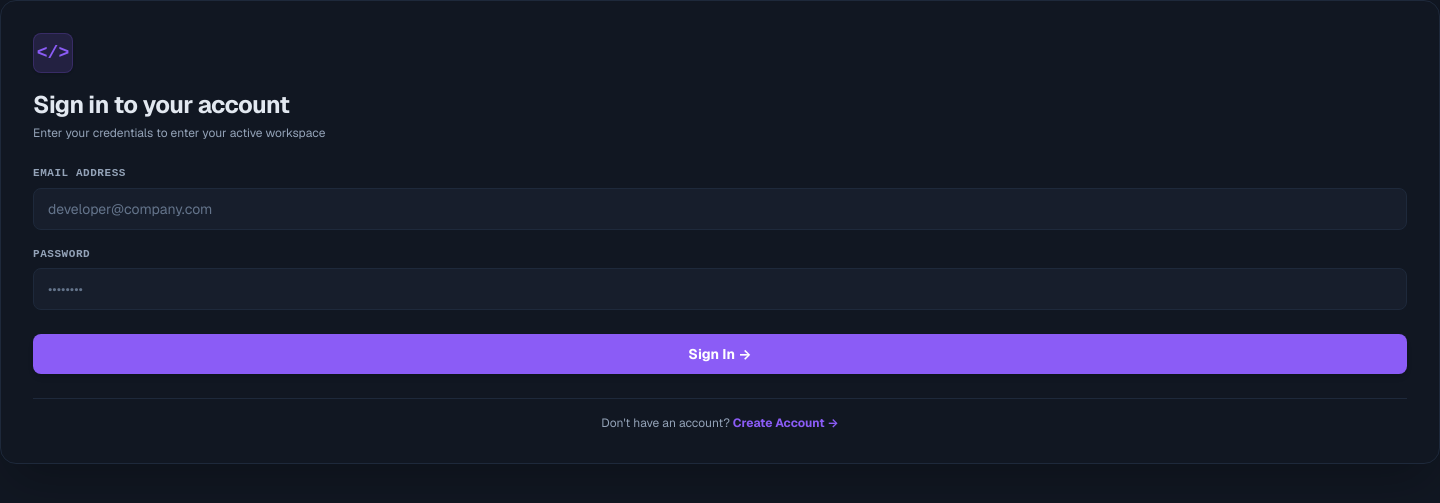
Test: Auth Store & Authentication Flow Tests › LoginForm Rendering & Validation › should display email format validation errors
In the field labelled "Email Address": (720, 208) [33,188,1407,230], type "invalid-email"
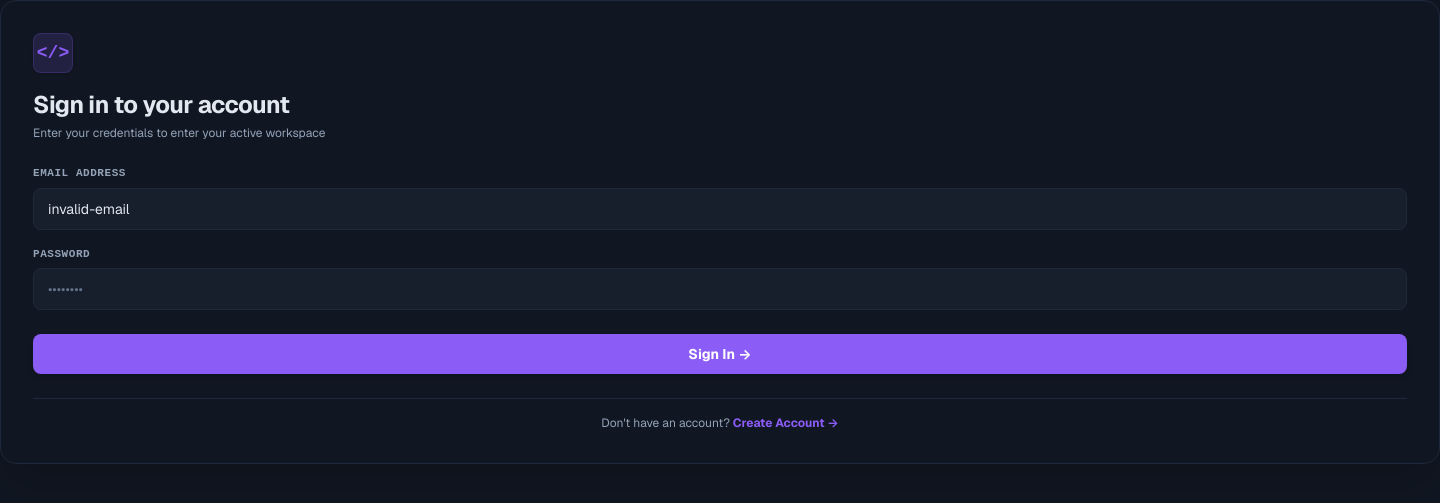
In the password field labelled "Password": (720, 289) [33,268,1407,310], type "password123"
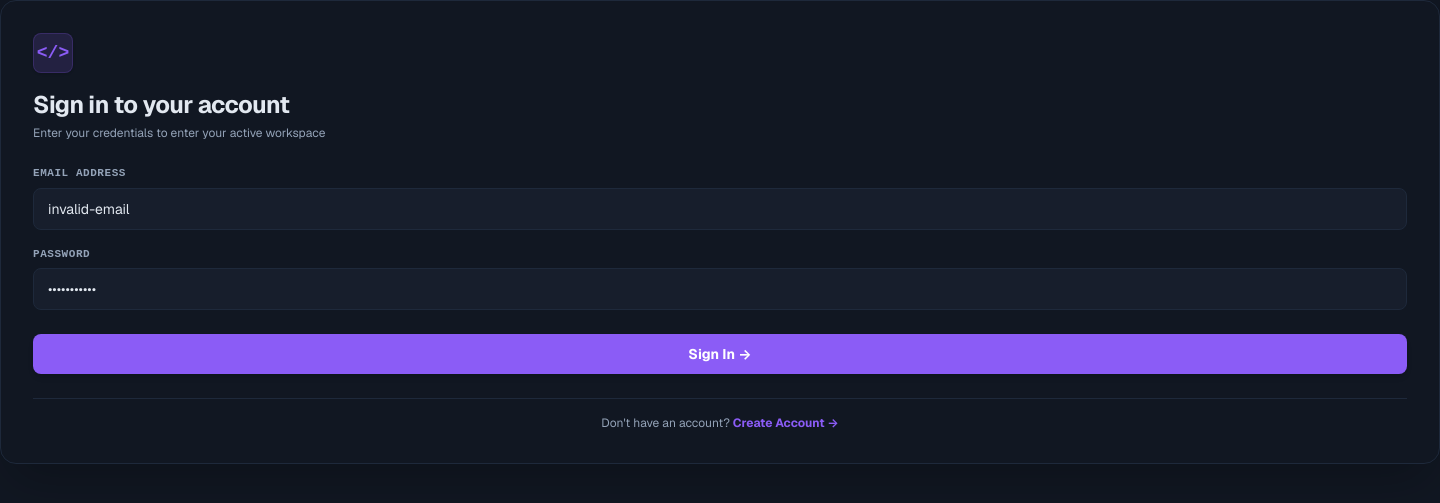
Click the button "Sign In →": (720, 354) [33,334,1407,374]
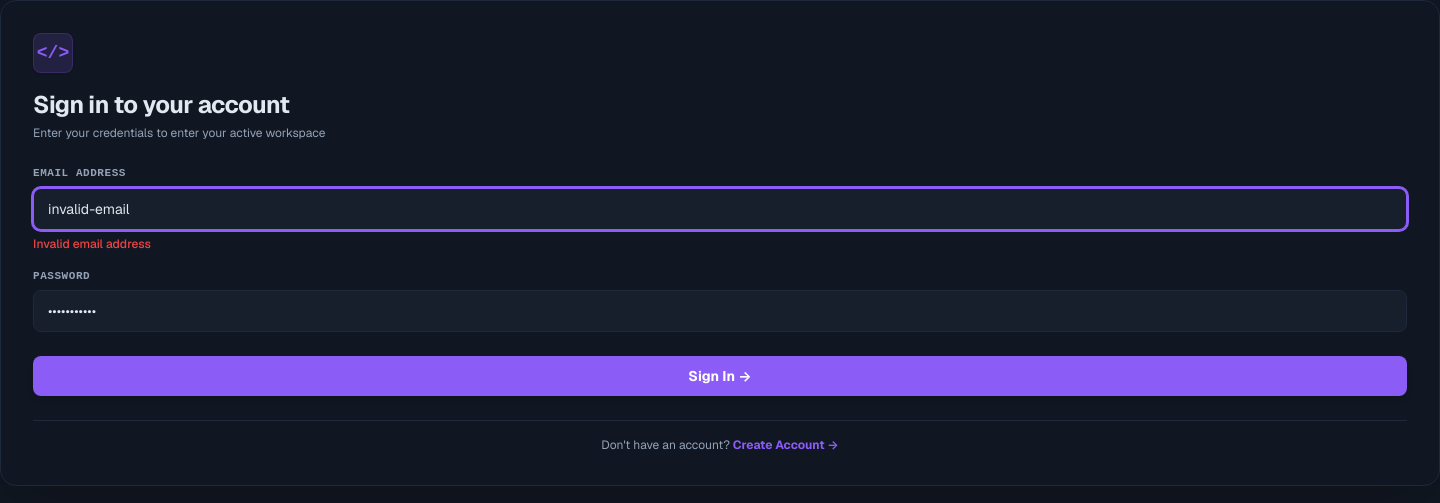
Check: the text "Invalid email address" is shown, box [33,236,151,252]
